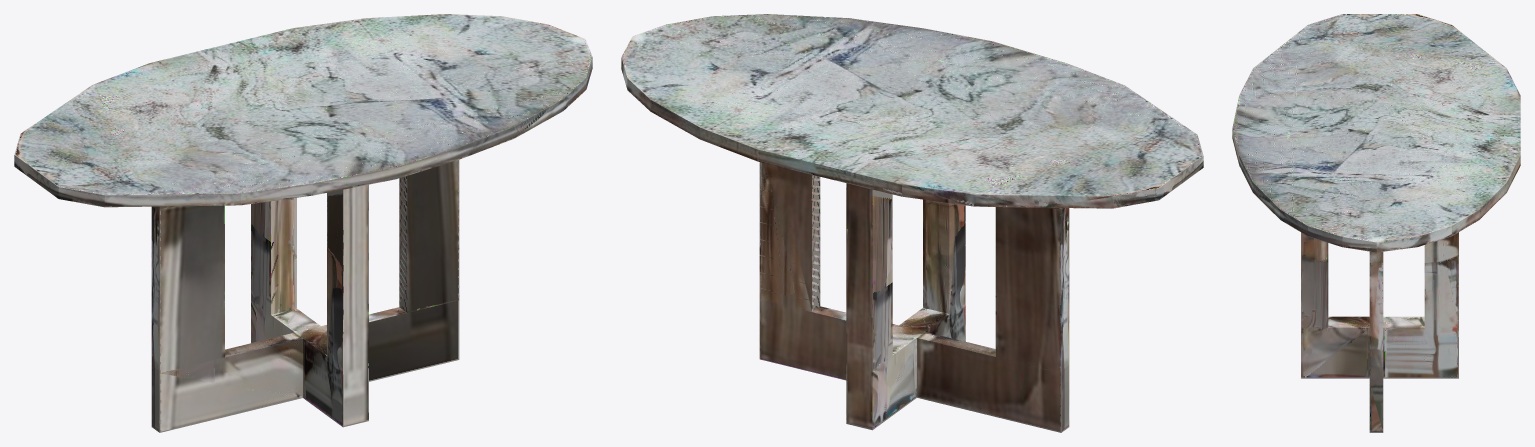
File: table_11_21__14_46_54_textured.obj
3 renders of one model, left to right at view 1: azimuth 30°, elevation 25°; view 2: azimuth 150°, elevation 25°; view 3: azimuth 270°, elevation 25°, orthographic. The views are drawn at different scales.
Size of the model in its own units: 1.13 by 0.5655 by 0.6032.
1 material, 1 textured.
